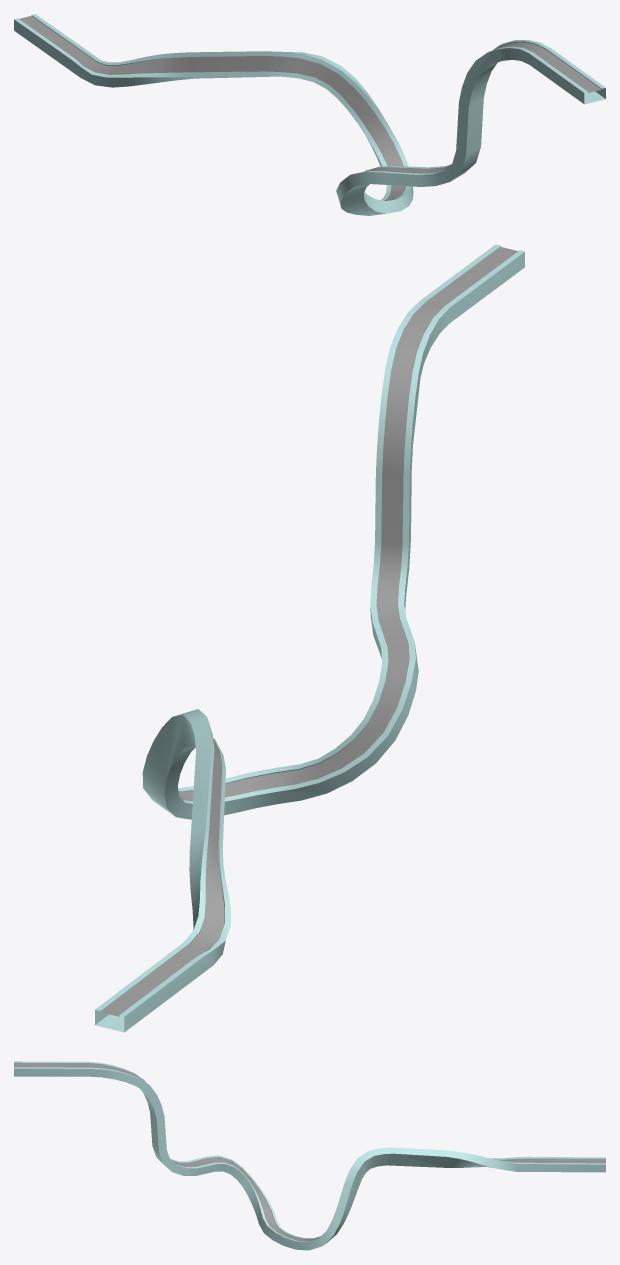
3 views of the same model, one above another, from view 1: azimuth 30°, elevation 25°; view 2: azimuth 150°, elevation 25°; view 3: azimuth 270°, elevation 25° (orthographic). The views are drawn at different scales.
Parts seen in each view (by area): view 1: hz; view 2: hz; view 3: hz.
Boxes of the visible parts, x1,y1,x2,y2 form: hz: (14, 14, 605, 215); hz: (95, 244, 524, 1032); hz: (14, 1061, 605, 1250).
Size of the model in its own units: 1754 by 2363 by 7051.
